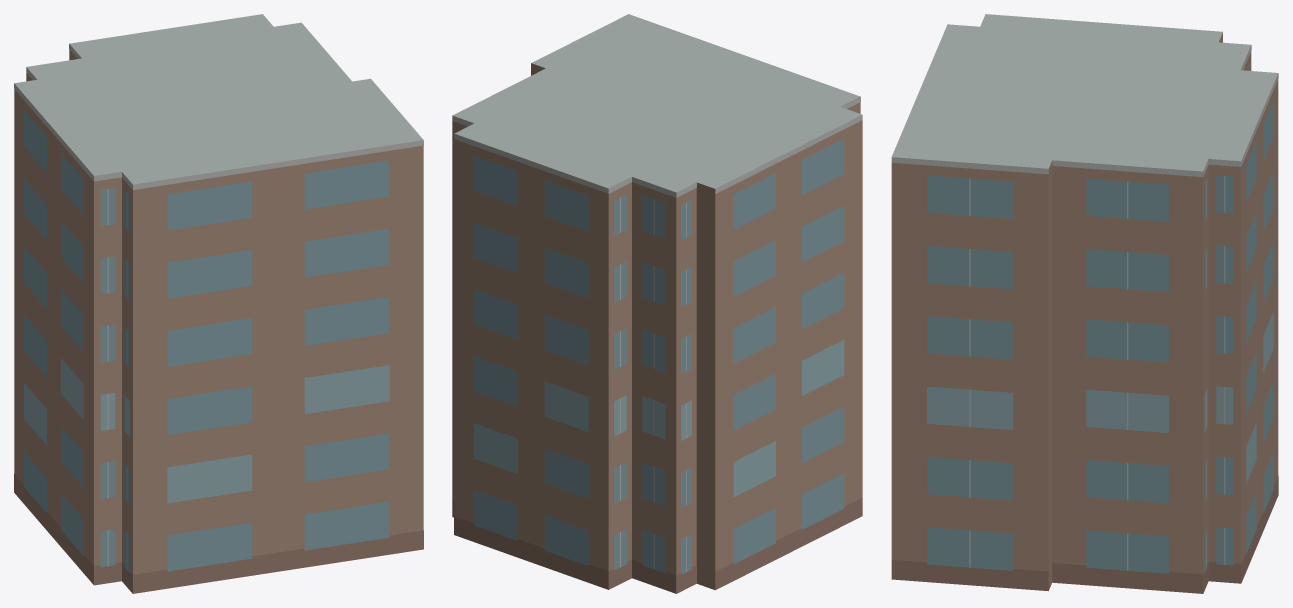
The model's file is survey-upis-32665784.glb.
3 views of the same model, side by side, from view 1: azimuth 30°, elevation 25°; view 2: azimuth 150°, elevation 25°; view 3: azimuth 270°, elevation 25° (orthographic). The views are drawn at different scales.
Visible parts, largest first — view 1: survey-upis-32665784.tmp; view 2: survey-upis-32665784.tmp; view 3: survey-upis-32665784.tmp.
Boxes of the visible parts, bbox=[...] form: survey-upis-32665784.tmp: bbox=[14, 14, 423, 593]; survey-upis-32665784.tmp: bbox=[452, 14, 862, 593]; survey-upis-32665784.tmp: bbox=[891, 14, 1278, 593].
Size of the model in its own units: 14.65 by 18.3 by 15.2.
